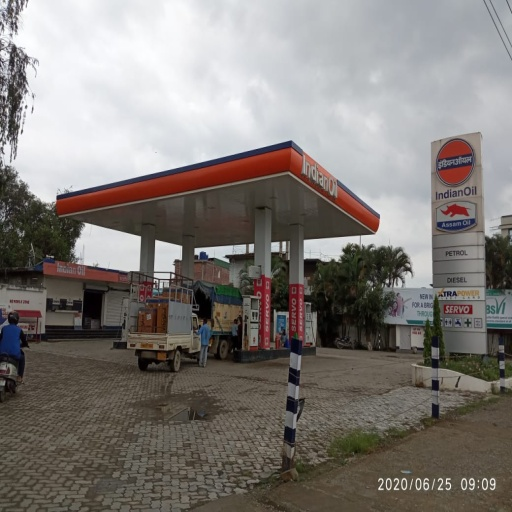roof: (57, 142, 379, 250)
